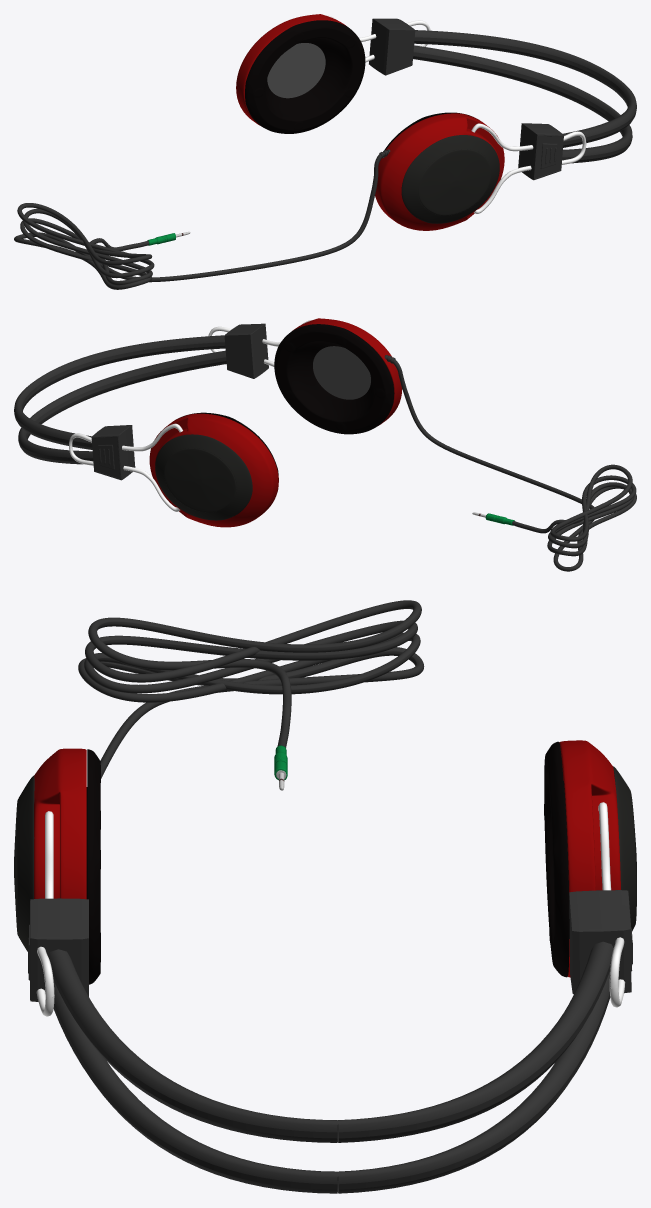
Rendered from wired_headphones.glb.
3 views of the same model, one above another, from view 1: azimuth 30°, elevation 25°; view 2: azimuth 150°, elevation 25°; view 3: azimuth 270°, elevation 25° (orthographic). The views are drawn at different scales.
Visible parts, largest first — view 1: Circle.004, Circle.000, NurbsPath.004, NurbsPath.003, Cube.000, NurbsPath.002, NurbsPath; view 2: Circle.004, Circle.000, NurbsPath.004, NurbsPath.003, Cube.000, NurbsPath.002, NurbsPath; view 3: Circle.004, NurbsPath.004, NurbsPath.003, NurbsPath.002, Cube.000, Circle.000, NurbsPath.
Part boxes in pixels (box(x1,y1,x2,y2)): Circle.004: box(236, 14, 504, 230); Circle.000: box(401, 135, 499, 223); NurbsPath.004: box(14, 149, 390, 289); NurbsPath.003: box(414, 30, 636, 147); Cube.000: box(369, 18, 563, 180); NurbsPath.002: box(413, 45, 632, 163); NurbsPath: box(327, 15, 586, 213); Circle.004: box(149, 318, 402, 527); Circle.000: box(155, 434, 252, 520); NurbsPath.004: box(384, 355, 636, 571); NurbsPath.003: box(14, 335, 225, 449); Cube.000: box(91, 323, 268, 480); NurbsPath.002: box(18, 350, 226, 464); NurbsPath: box(69, 320, 312, 511); Circle.004: box(34, 740, 620, 984); NurbsPath.004: box(78, 600, 424, 778); NurbsPath.003: box(48, 941, 613, 1142); NurbsPath.002: box(53, 971, 610, 1193); Cube.000: box(28, 890, 632, 1001); Circle.000: box(14, 766, 636, 951); NurbsPath: box(36, 802, 625, 1016).
Bounding box in the file's own units: 10.96 × 2.03 × 5.36.
